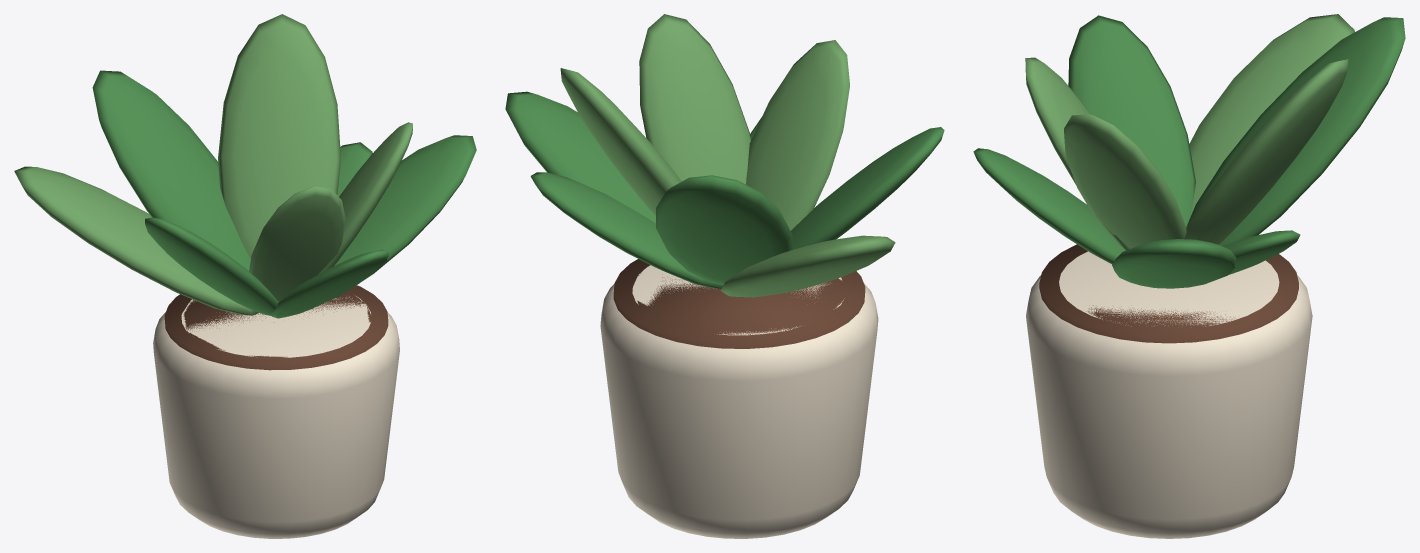
The model's file is plant_small.glb.
3 renders of one model, left to right at view 1: azimuth 30°, elevation 25°; view 2: azimuth 150°, elevation 25°; view 3: azimuth 270°, elevation 25°, orthographic. The views are drawn at different scales.
Parts seen in each view (by area): view 1: plant_small; view 2: plant_small; view 3: plant_small.
Boxes of the visible parts, x1,y1,x2,y2 form: plant_small: [14, 14, 476, 538]; plant_small: [505, 14, 944, 538]; plant_small: [973, 14, 1405, 538].
Bounding box in the file's own units: 0.2865 × 0.2898 × 0.2345.
